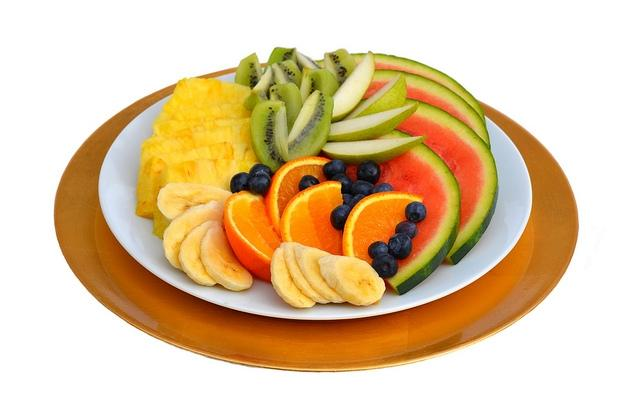banana: (162, 200, 224, 272), (200, 224, 253, 292), (318, 255, 386, 306), (292, 246, 346, 303), (156, 183, 232, 223), (284, 242, 332, 304), (271, 242, 316, 308), (178, 221, 222, 288)
blueberry: (371, 252, 398, 278), (388, 233, 412, 260), (356, 160, 381, 185), (248, 170, 272, 194), (330, 204, 352, 230), (323, 159, 347, 180), (404, 201, 426, 223), (230, 172, 252, 194), (332, 173, 354, 194), (395, 220, 418, 240), (351, 180, 374, 197), (298, 175, 320, 192), (368, 241, 388, 259), (249, 164, 273, 178), (370, 182, 394, 194), (348, 195, 366, 209)
kiwi: (288, 90, 334, 161), (250, 100, 288, 174), (269, 82, 302, 136), (298, 66, 338, 108), (323, 48, 358, 88), (244, 66, 272, 111), (235, 52, 262, 90), (270, 60, 302, 91), (265, 47, 298, 72), (296, 51, 324, 73)
orange: (342, 190, 424, 266), (264, 156, 332, 241), (224, 190, 282, 282), (280, 180, 344, 256)
pineapple: (152, 157, 260, 241), (137, 141, 248, 220), (140, 124, 252, 167), (141, 118, 251, 152), (150, 104, 252, 139), (162, 78, 250, 117)
watermelon: (354, 98, 499, 265), (317, 129, 461, 296), (360, 70, 490, 150), (349, 53, 486, 127)
